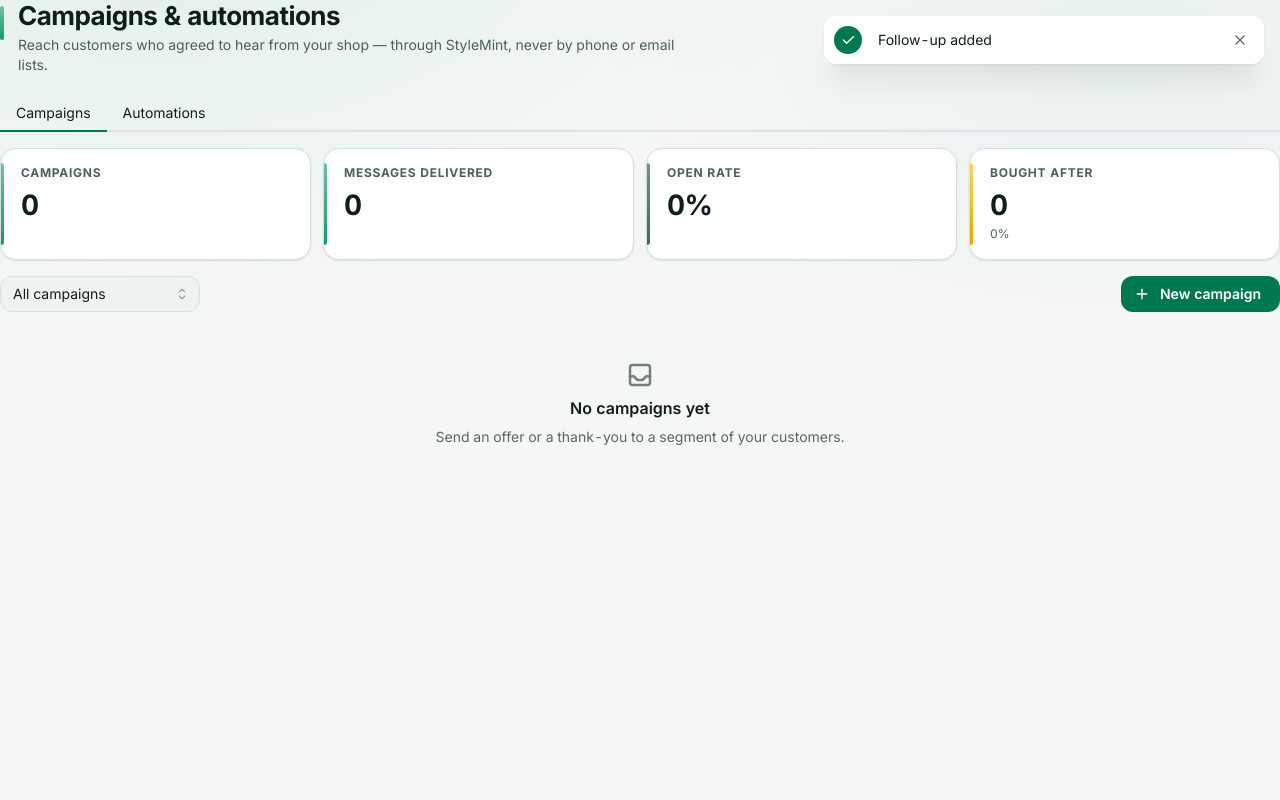
it: campaigns respect consent › shows how many customers agreed to marketing and how many are skipped
The width and height of the screenshot is (1280, 800).
Click the button "New campaign": coordinates (1200, 294) [1121,276,1279,312]
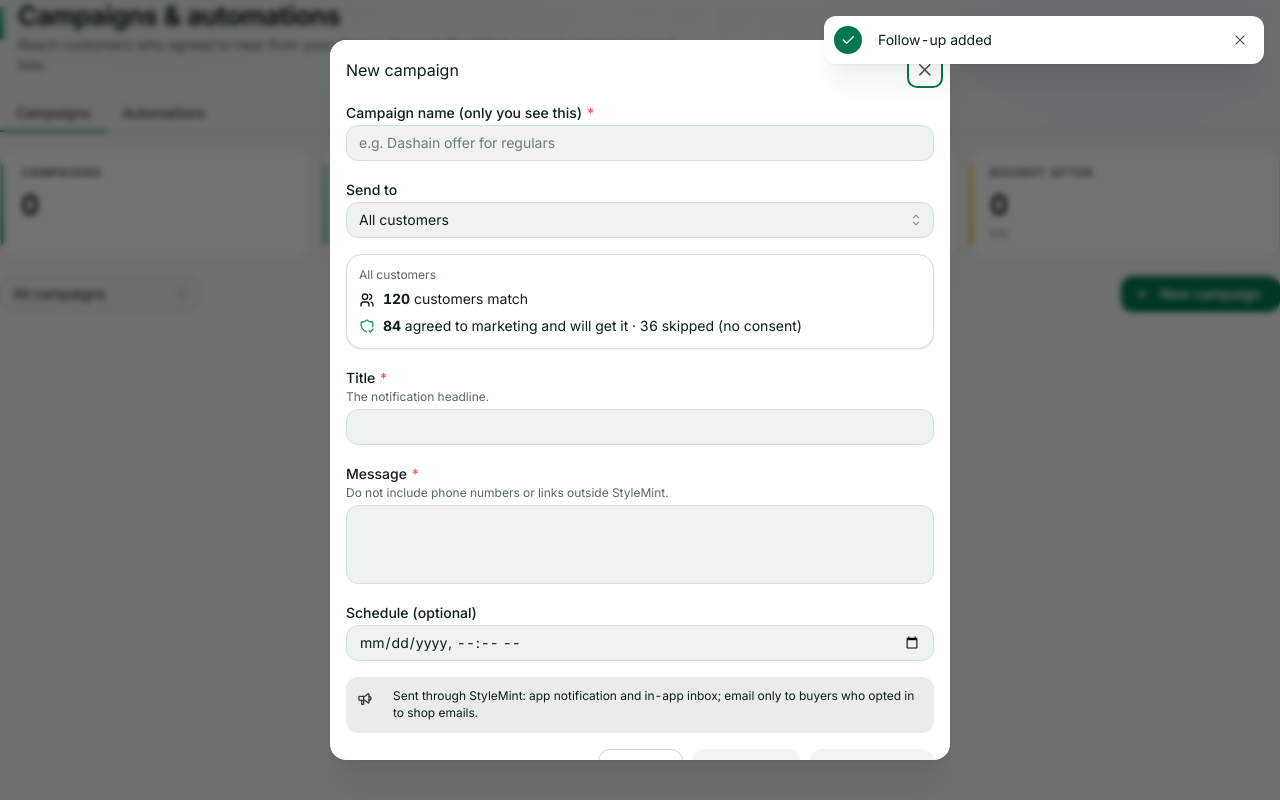
Check: the element with test id "consent-count" shows "84 agreed to marketing and will get it", box [359,317,802,334]
Check: the element with test id "consent-count" shows "36 skipped (no consent)", box [628,317,802,334]
Check: the text "120" is shown, box [383,290,410,307]
